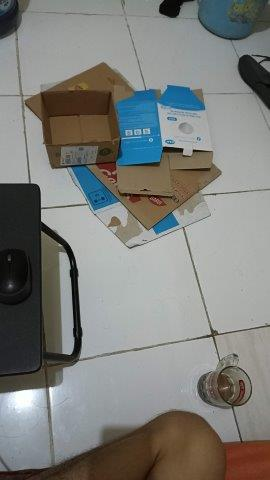kardus: (22, 61, 218, 244), (114, 87, 214, 201), (40, 88, 120, 165)
